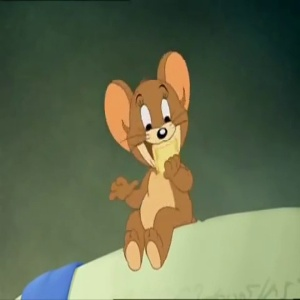Jerry: (87, 49, 205, 177)
